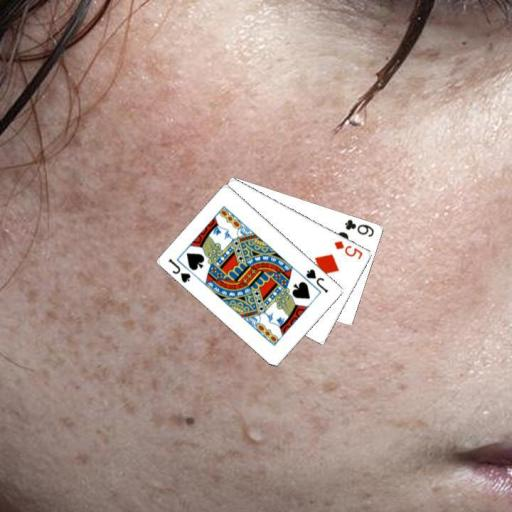5D: (331, 237, 365, 261)
6C: (342, 216, 376, 238)
JS: (165, 256, 193, 285), (303, 266, 330, 295)
